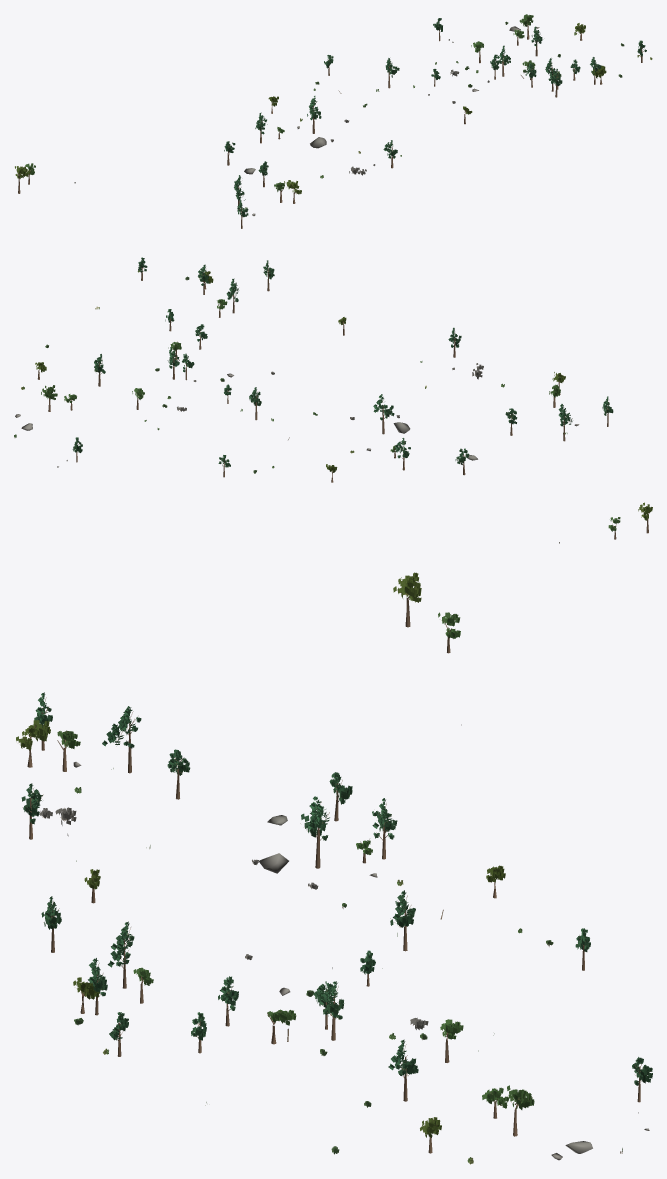
Rendered from arch_land_scatter_c20_18.glb.
The picture shows the model from 3 angles, top to bottom: view 1: azimuth 30°, elevation 25°; view 2: azimuth 150°, elevation 25°; view 3: azimuth 270°, elevation 25°; orthographic projection. The views are drawn at different scales.
Visible parts, largest first — view 1: arch_land_scatter_c20_18; view 2: arch_land_scatter_c20_18; view 3: arch_land_scatter_c20_18.
Boxes of the visible parts, x1=… form: arch_land_scatter_c20_18: x1=15, y1=14, x2=652, y2=228; arch_land_scatter_c20_18: x1=14, y1=257, x2=652, y2=543; arch_land_scatter_c20_18: x1=16, y1=572, x2=652, y2=1164.
Bounding box in the file's own units: 222 × 35.42 × 105.
